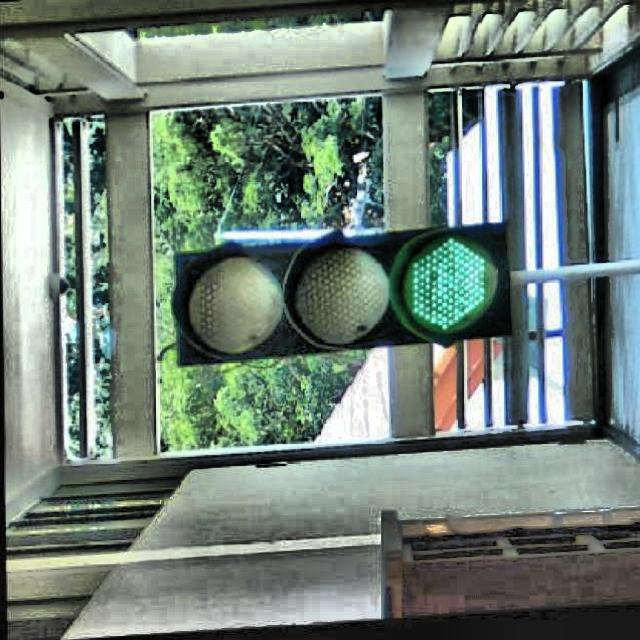green: (166, 239, 514, 349)
